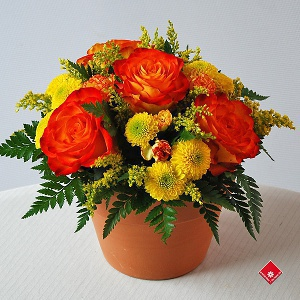flowerpot: (79, 150, 238, 282)
